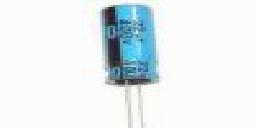Electrolytic-Capacitor: (99, 3, 165, 89)
